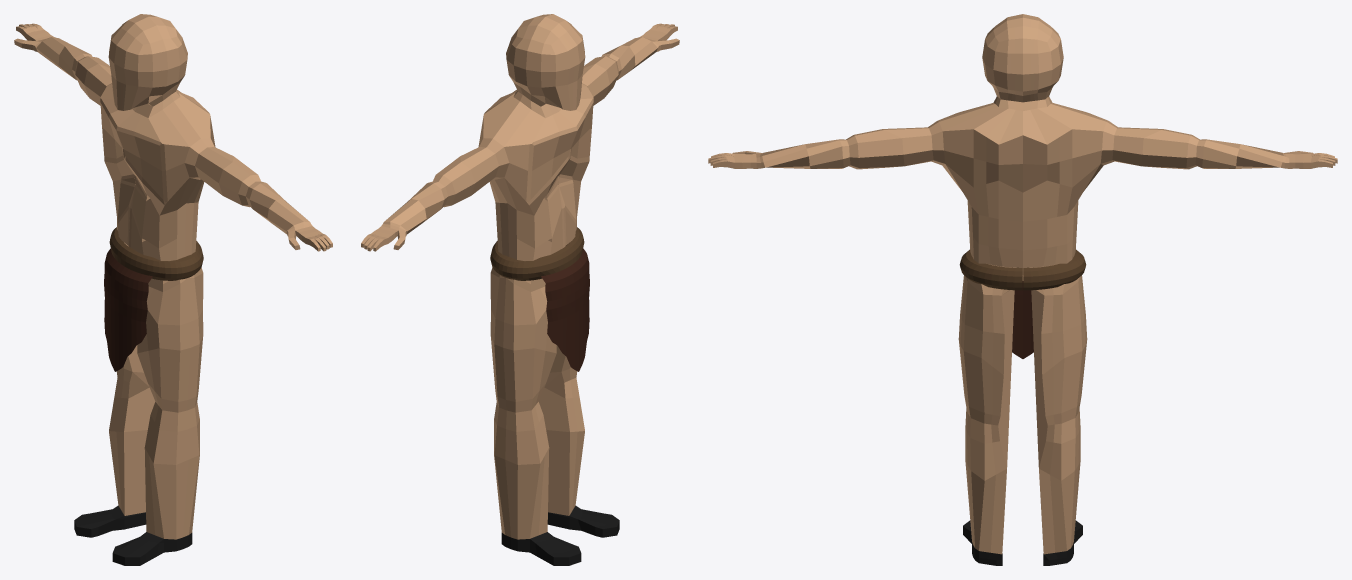
File: czlowieczek.fbx
The picture shows the model from 3 angles, left to right: view 1: azimuth 30°, elevation 25°; view 2: azimuth 150°, elevation 25°; view 3: azimuth 270°, elevation 25°; orthographic projection. The views are drawn at different scales.
Visible parts, largest first — view 1: Cube; view 2: Cube; view 3: Cube.
Boxes of the visible parts, <box> form: Cube: <box>14,14,332,565</box>; Cube: <box>361,14,679,565</box>; Cube: <box>708,14,1337,565</box>.
Bounding box in the file's own units: 252 × 1218 × 1296.
